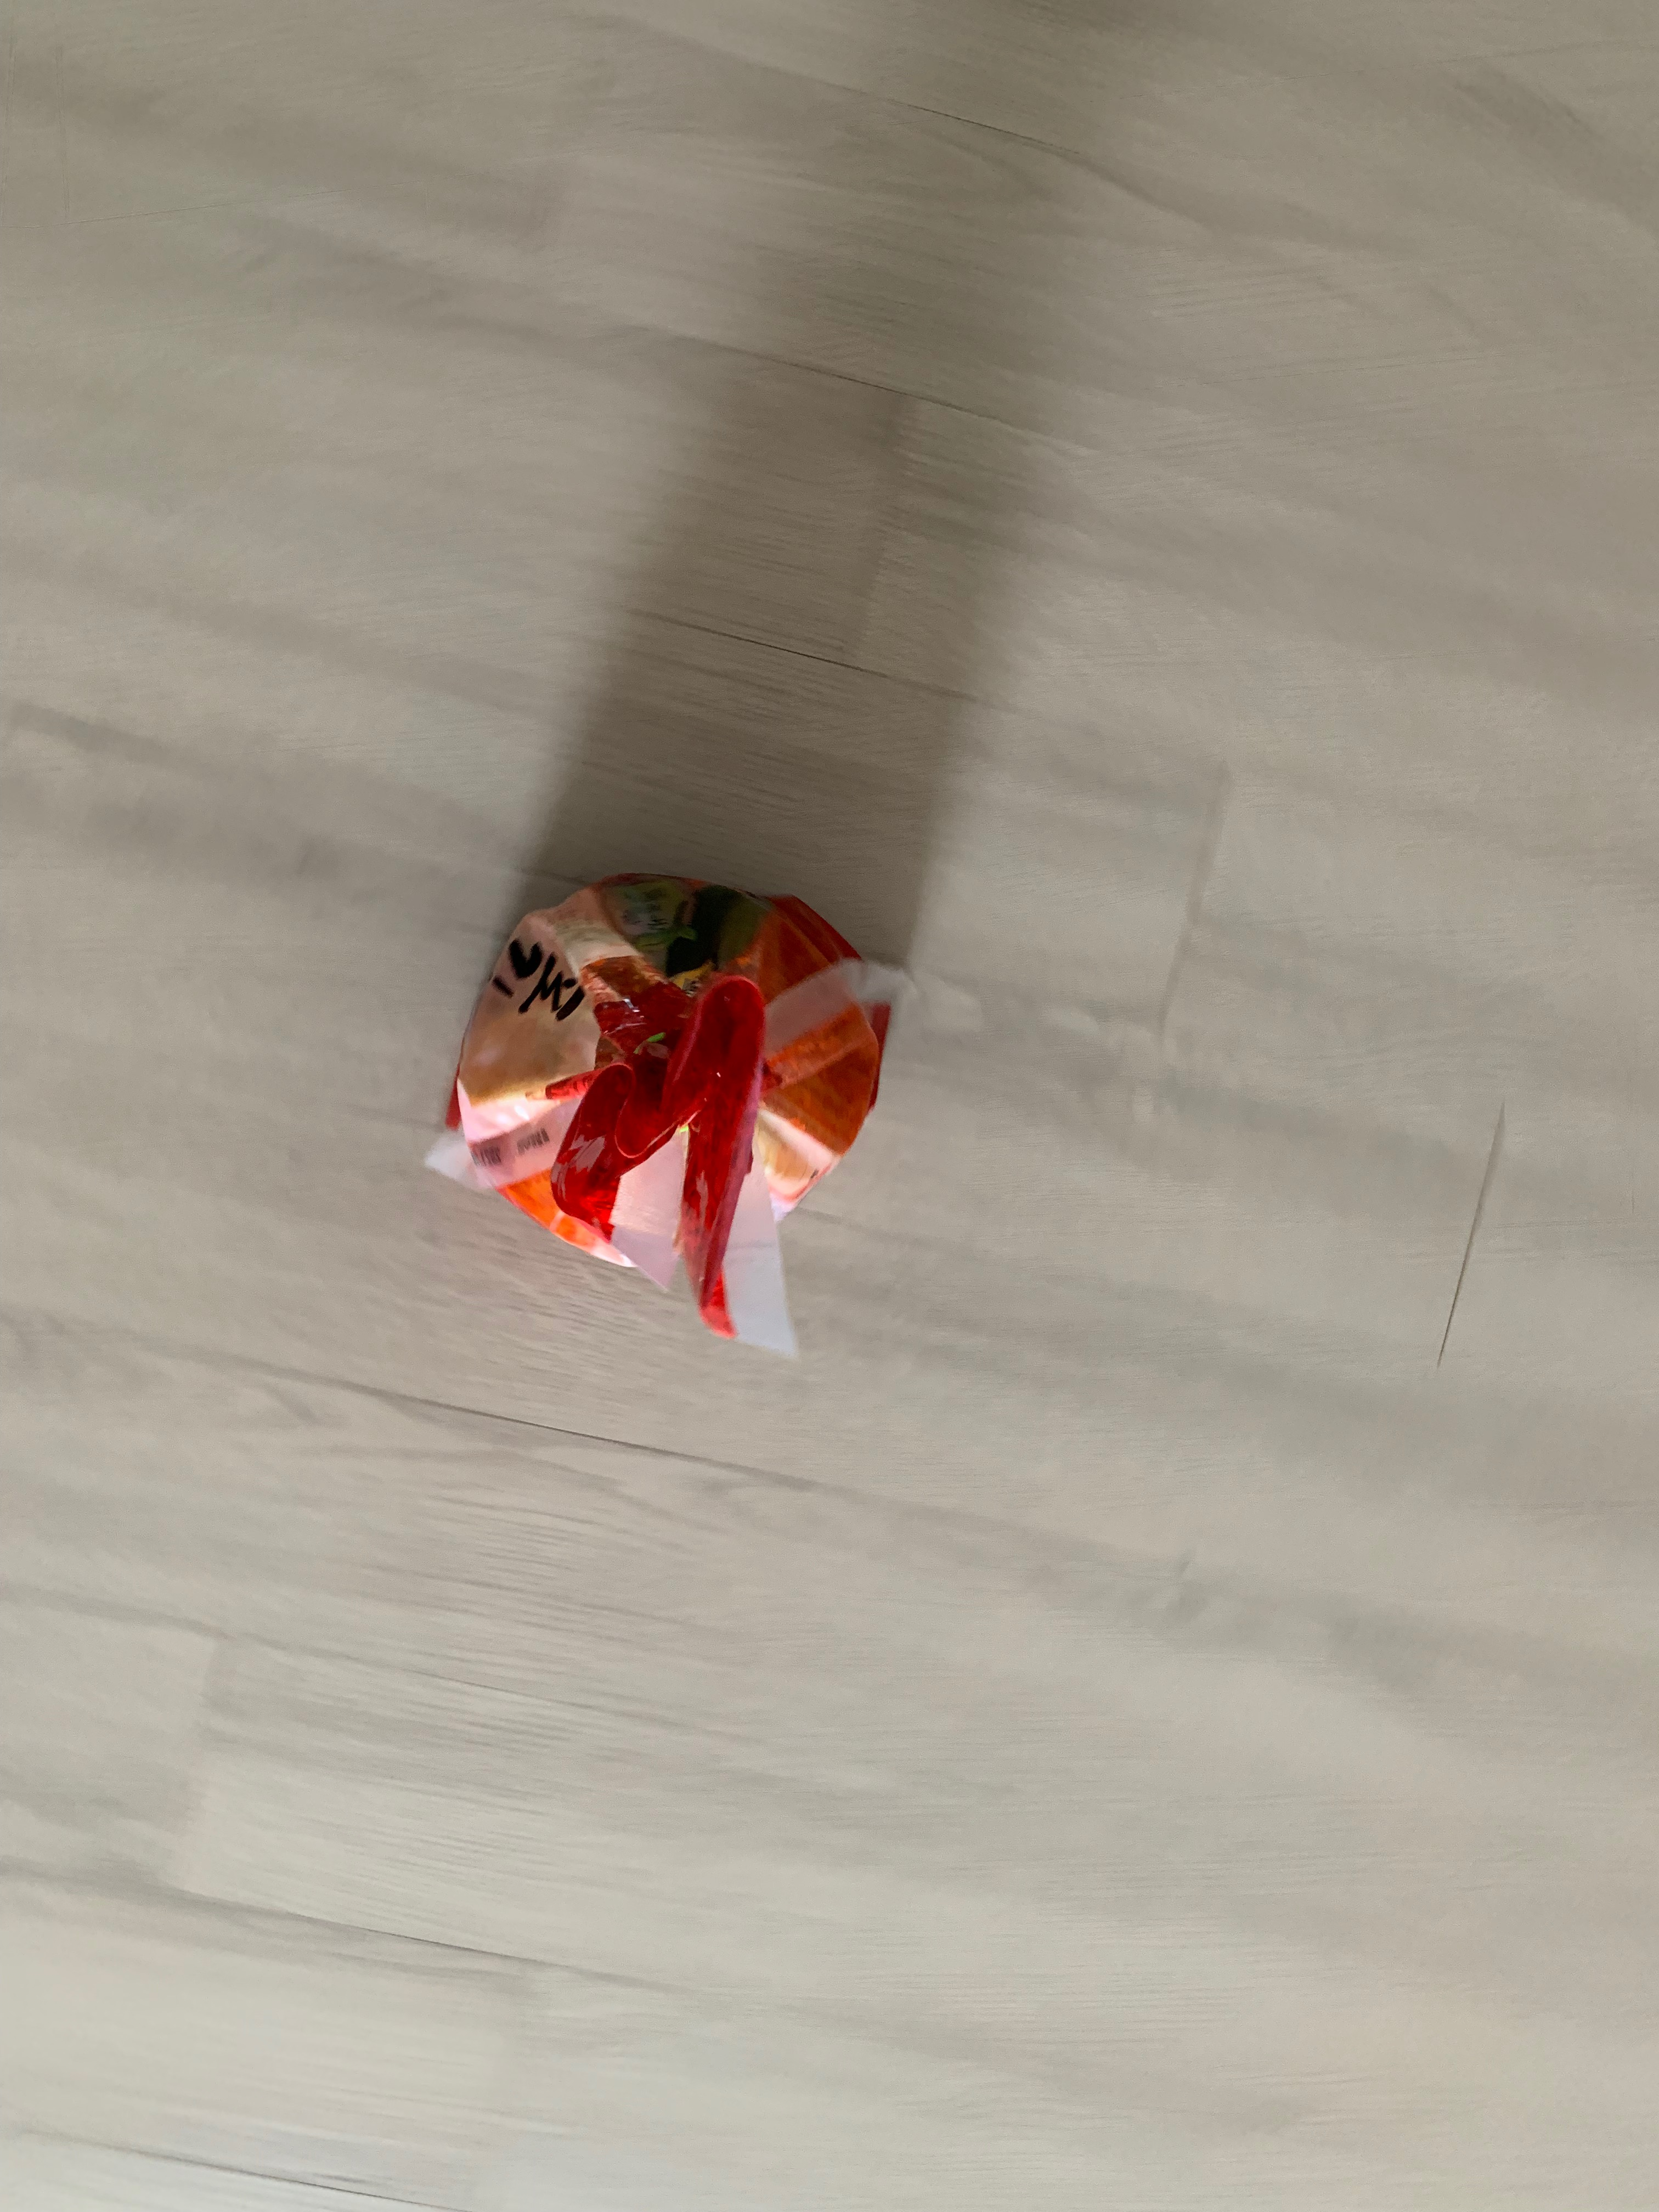kimchi: (448, 876, 884, 1339)
